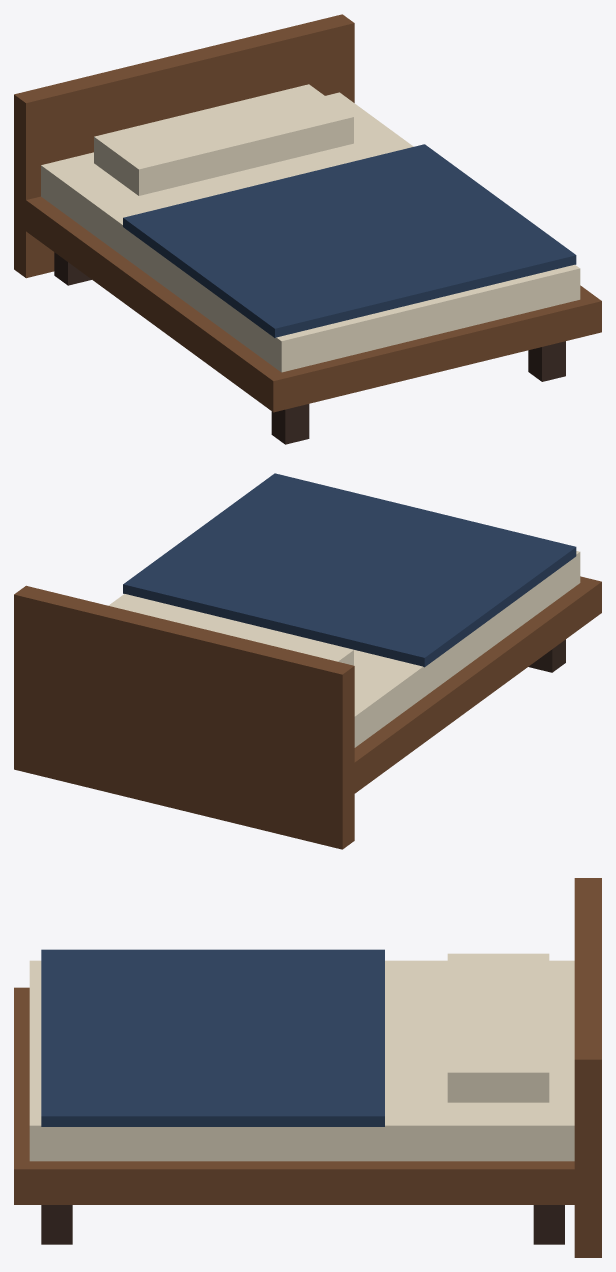
The model's file is hearth_bed.glb.
3 renders of one model, top to bottom at view 1: azimuth 30°, elevation 25°; view 2: azimuth 150°, elevation 25°; view 3: azimuth 270°, elevation 25°, orthographic. The views are drawn at different scales.
Visible parts, largest first — view 1: hearth_bed; view 2: hearth_bed; view 3: hearth_bed.
Part boxes in pixels (bbox=[...]): hearth_bed: bbox=[14, 14, 601, 444]; hearth_bed: bbox=[14, 473, 601, 849]; hearth_bed: bbox=[14, 878, 601, 1257].
Size of the model in its own units: 5.5 by 2.8 by 7.52.
